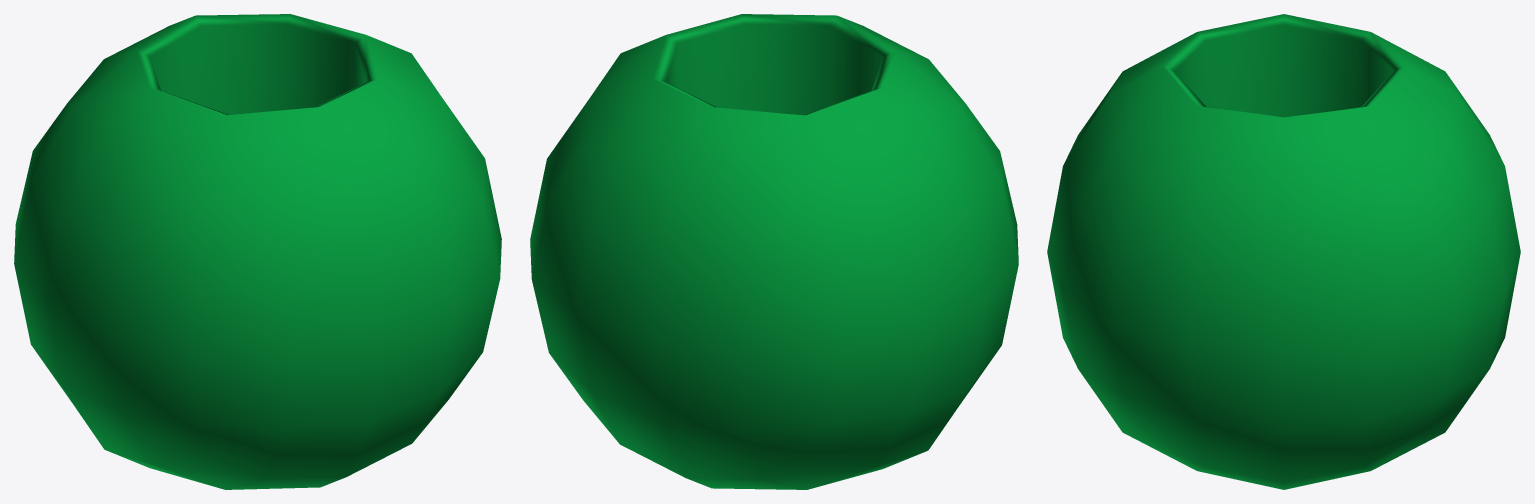
The model's file is Store_9_Toy_Ball_7.glb.
The picture shows the model from 3 angles, left to right: view 1: azimuth 30°, elevation 25°; view 2: azimuth 150°, elevation 25°; view 3: azimuth 270°, elevation 25°; orthographic projection. The views are drawn at different scales.
Parts seen in each view (by area): view 1: Store_9_Toy_Ball_7; view 2: Store_9_Toy_Ball_7; view 3: Store_9_Toy_Ball_7.
Boxes of the visible parts, x1,y1,x2,y2 form: Store_9_Toy_Ball_7: (14, 14, 501, 489); Store_9_Toy_Ball_7: (530, 14, 1018, 489); Store_9_Toy_Ball_7: (1047, 14, 1520, 489).
Bounding box in the file's own units: 0.2652 × 0.2301 × 0.2652.
Materials: 1 (1 with a texture image).
